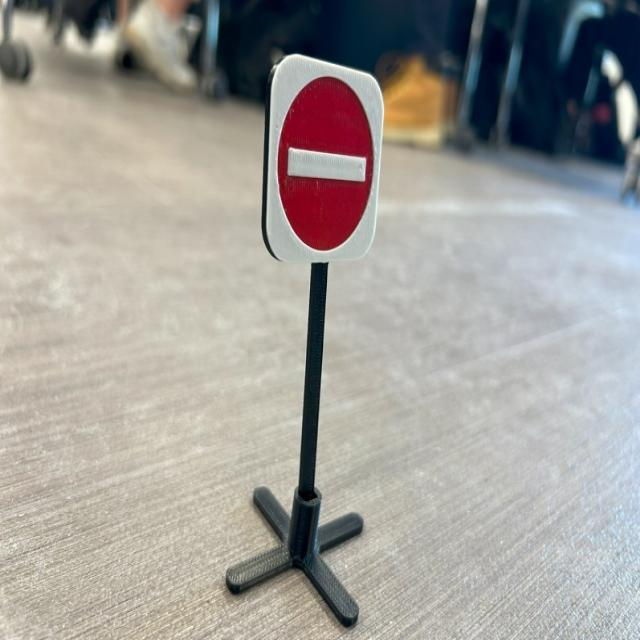sign_noentry: (256, 35, 393, 283)
